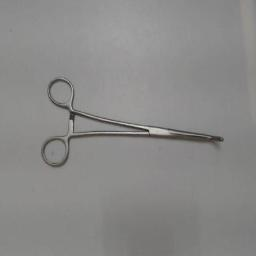Lahey Forceps: (36, 68, 228, 174)
